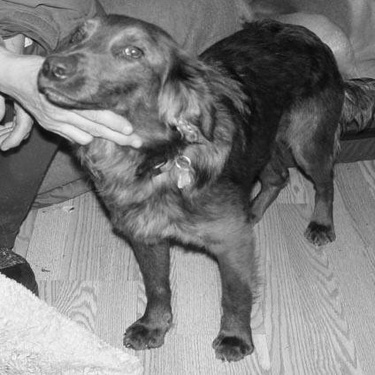dog: (29, 1, 372, 365)
